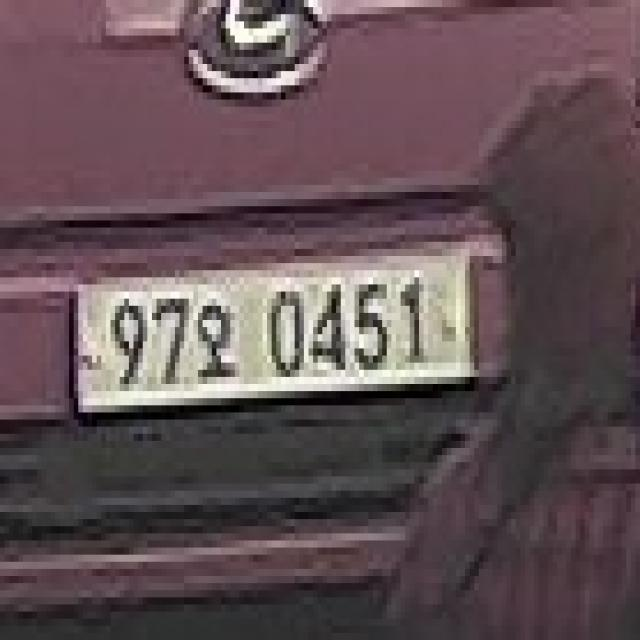0: (262, 284, 305, 379)
1: (397, 273, 438, 372)
4: (307, 282, 350, 379)
5: (353, 276, 393, 374)
7: (150, 290, 193, 387)
9: (106, 294, 148, 392)
license_plate: (72, 233, 481, 421)
o: (198, 294, 238, 388)
